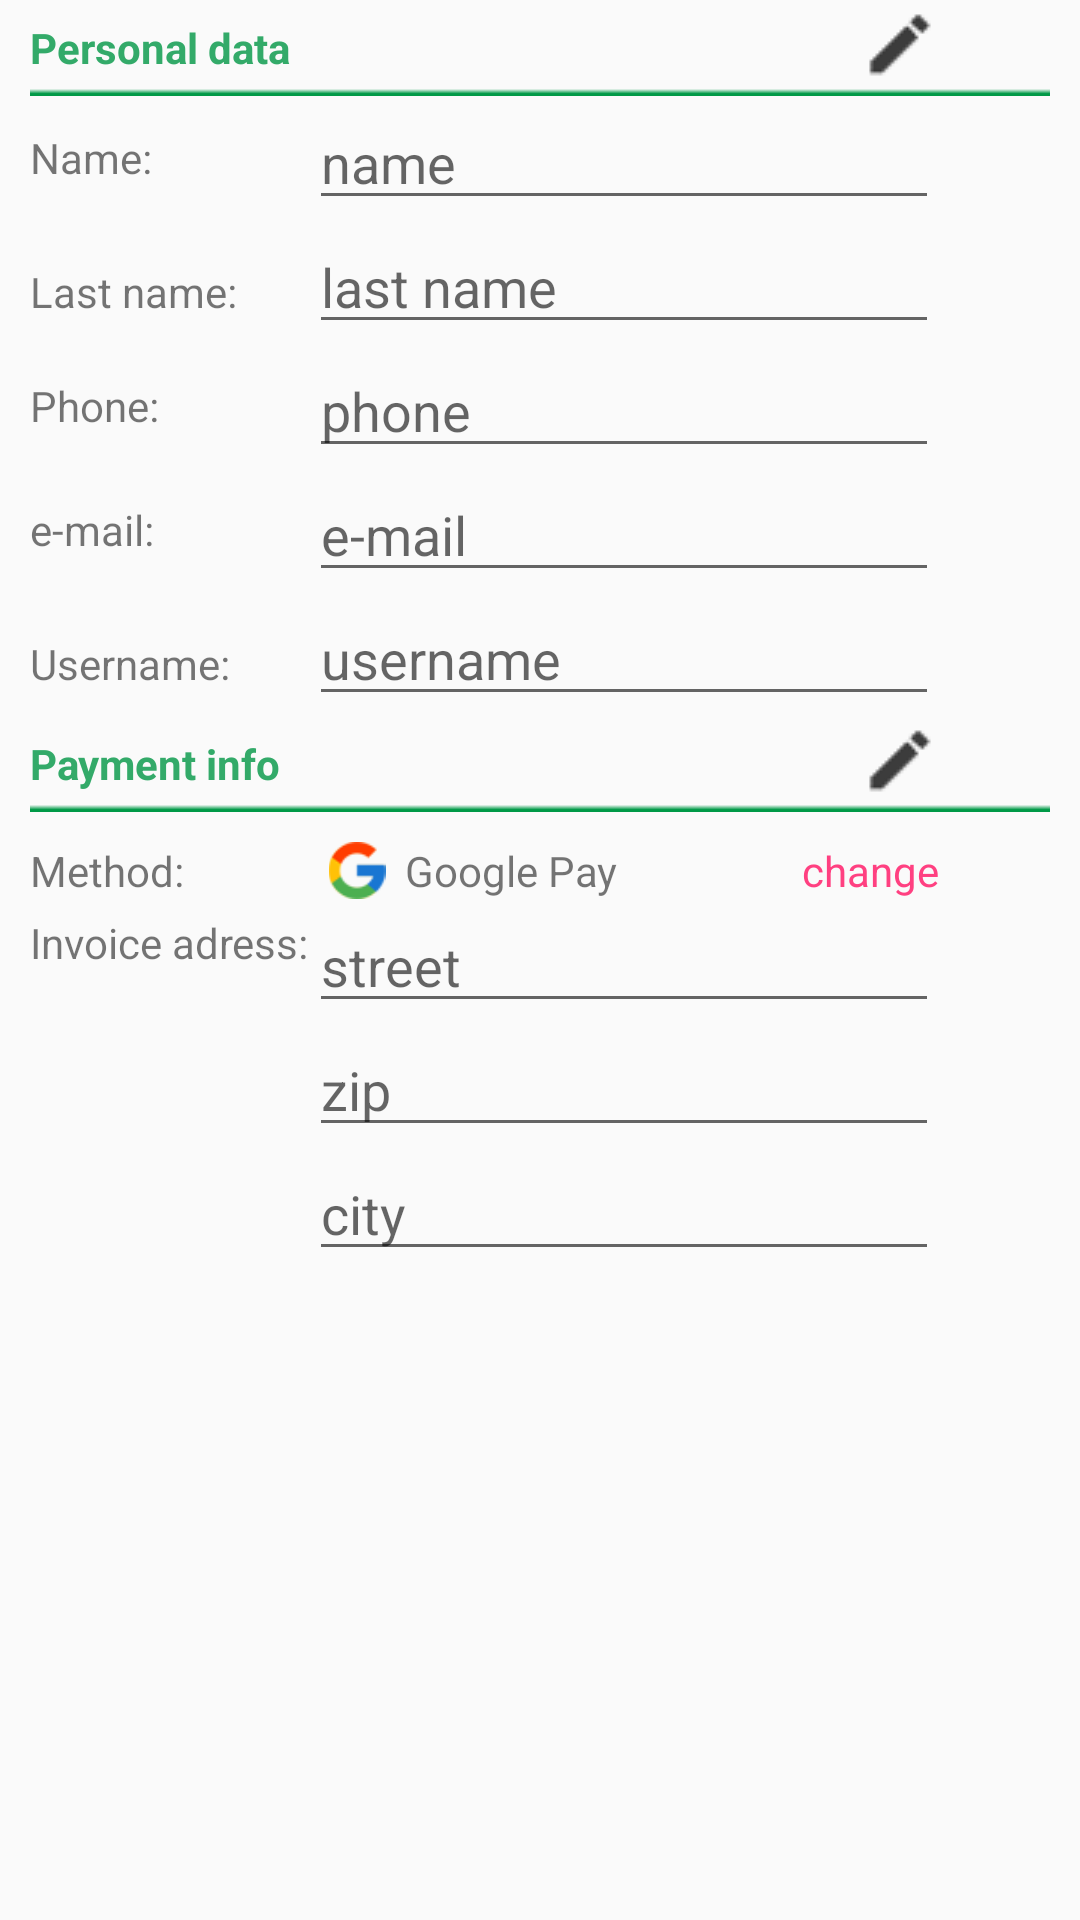

Screen size 1080 × 1920. Icon name, then its center in pixels as [x,y]:
edit symbol: [900,44], [900,760]
